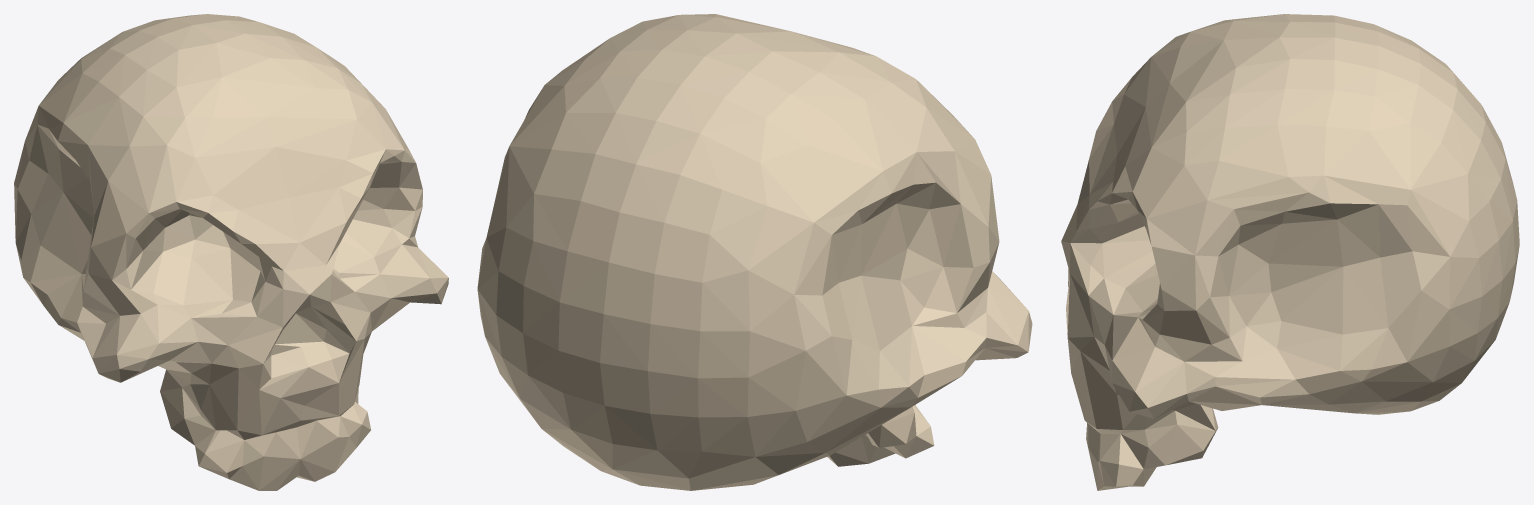
File: skull.fbx
3 renders of one model, left to right at view 1: azimuth 30°, elevation 25°; view 2: azimuth 150°, elevation 25°; view 3: azimuth 270°, elevation 25°, orthographic. The views are drawn at different scales.
Parts seen in each view (by area): view 1: skull; view 2: skull; view 3: skull.
Boxes of the visible parts, x1,y1,x2,y2 form: skull: (14, 14, 448, 490); skull: (477, 14, 1032, 490); skull: (1061, 14, 1519, 490).
Size of the model in its own units: 0.2507 by 0.2655 by 0.252.
